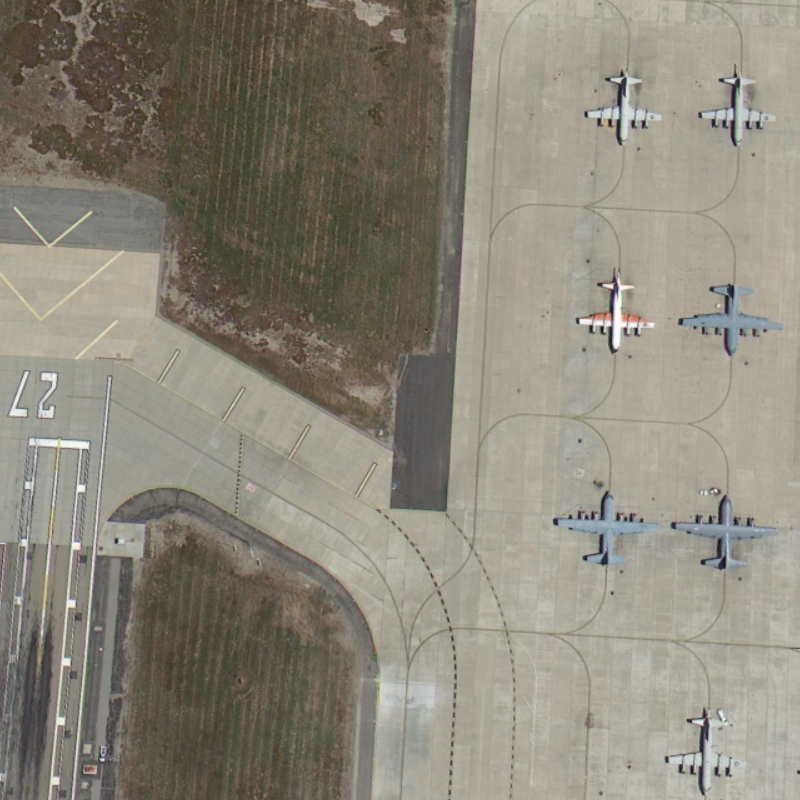A2: (548, 488, 661, 572), (669, 491, 782, 573), (673, 278, 786, 359)
A9: (663, 706, 748, 799), (574, 265, 659, 356), (697, 60, 781, 151), (581, 67, 666, 148)
